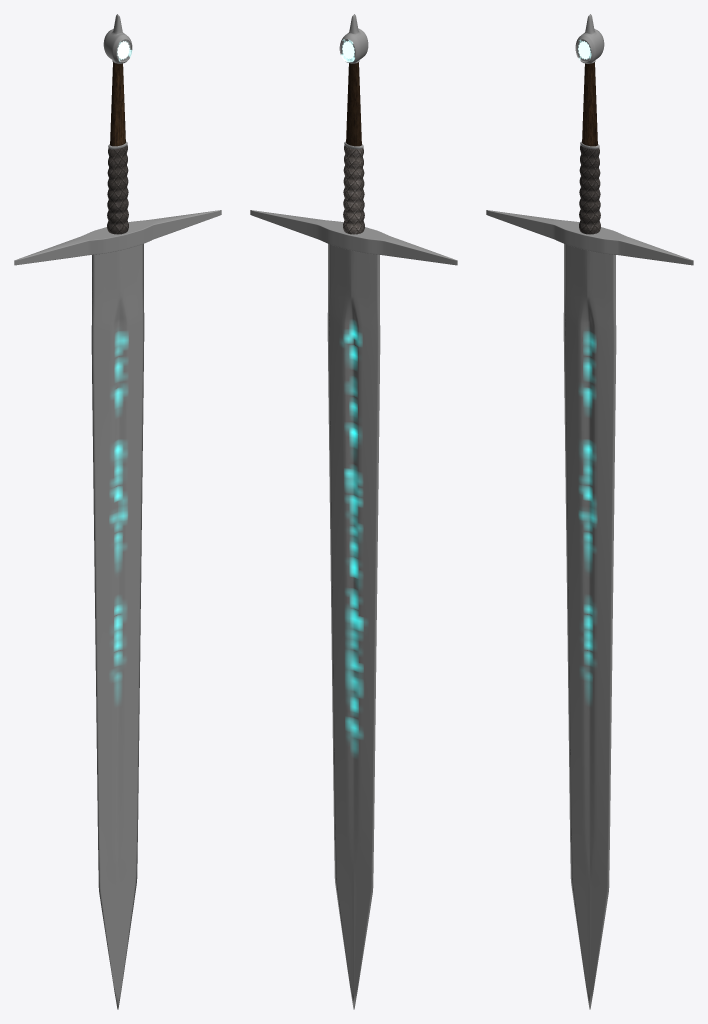
3 renders of one model, left to right at view 1: azimuth 30°, elevation 25°; view 2: azimuth 150°, elevation 25°; view 3: azimuth 330°, elevation 25°, orthographic.
Visible parts, largest first — view 1: Blade_0; view 2: Blade_0; view 3: Blade_0.
Part boxes in pixels (x1=…): Blade_0: x1=14, y1=14, x2=221, y2=1009; Blade_0: x1=250, y1=14, x2=457, y2=1009; Blade_0: x1=486, y1=14, x2=693, y2=1009.
Size of the model in its own units: 0.2383 by 1.09 by 0.0256.
1 material, 1 textured.
